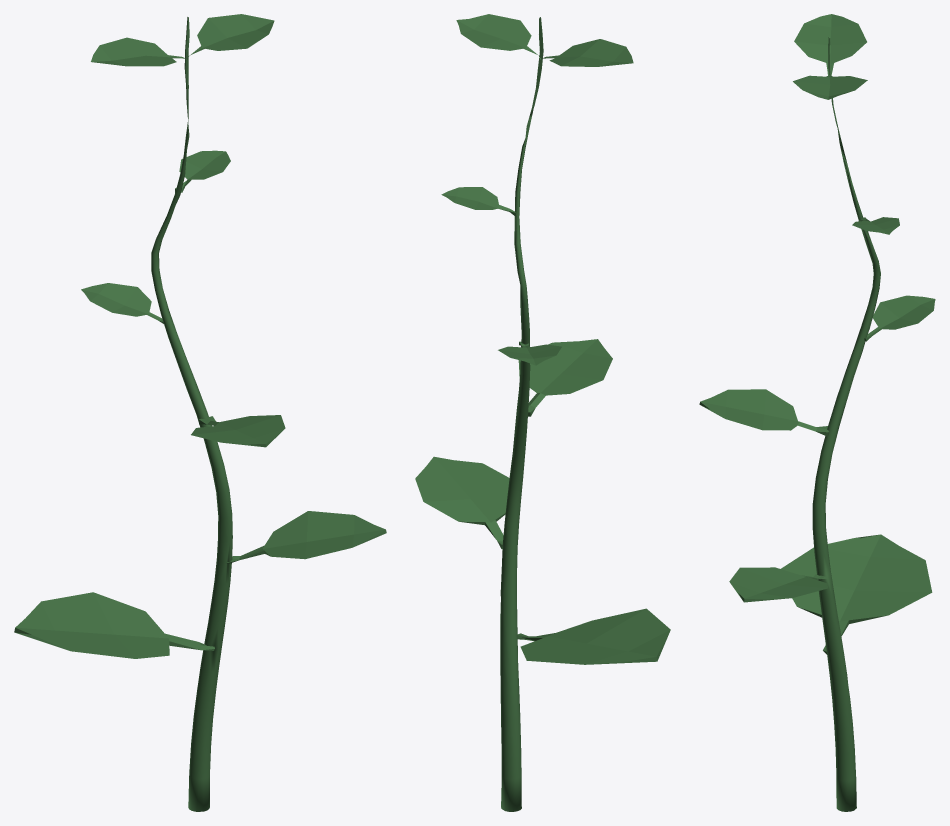
Rendered from Plant.glb.
3 renders of one model, left to right at view 1: azimuth 30°, elevation 25°; view 2: azimuth 150°, elevation 25°; view 3: azimuth 270°, elevation 25°, orthographic. The views are drawn at different scales.
Parts seen in each view (by area): view 1: Plant; view 2: Plant; view 3: Plant.
Boxes of the visible parts, x1,y1,x2,y2 form: Plant: [14, 14, 386, 811]; Plant: [415, 14, 670, 811]; Plant: [699, 14, 935, 811].
Size of the model in its own units: 0.7 by 1.79 by 0.5024.
